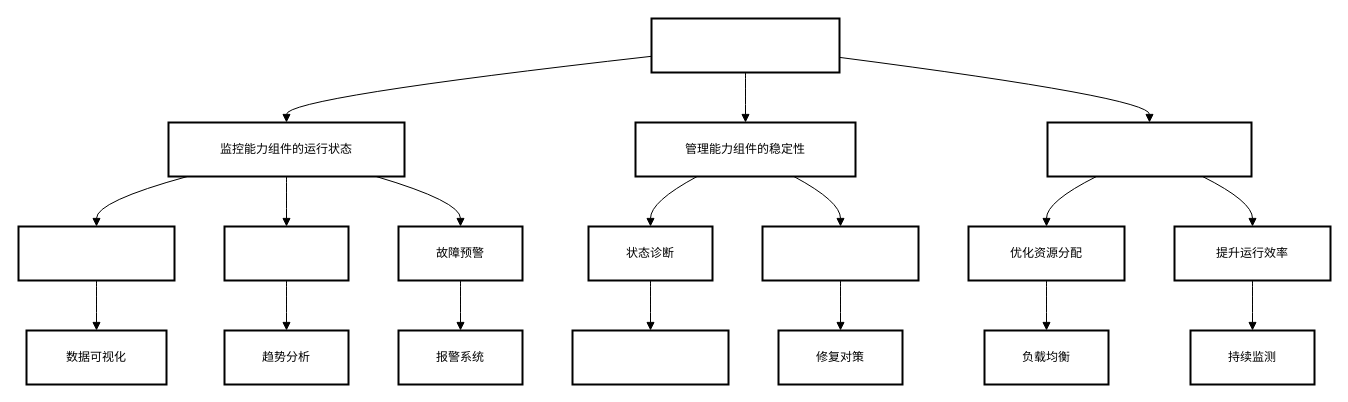
The diagram is 1348 pixels wide and 402 high, and some of its shapes have lost their labels. The shapes that lost their labels are listed below. From the top down, each one's centre as x and y in pixels, then its label:
At (x=745, y=45): "能力组件监控平台".
At (x=1149, y=149): "确保组件的高效运行".
At (x=96, y=253): "实时数据收集".
At (x=286, y=253): "性能分析".
At (x=840, y=253): "问题解决方案".
At (x=650, y=357): "根本原因分析".
